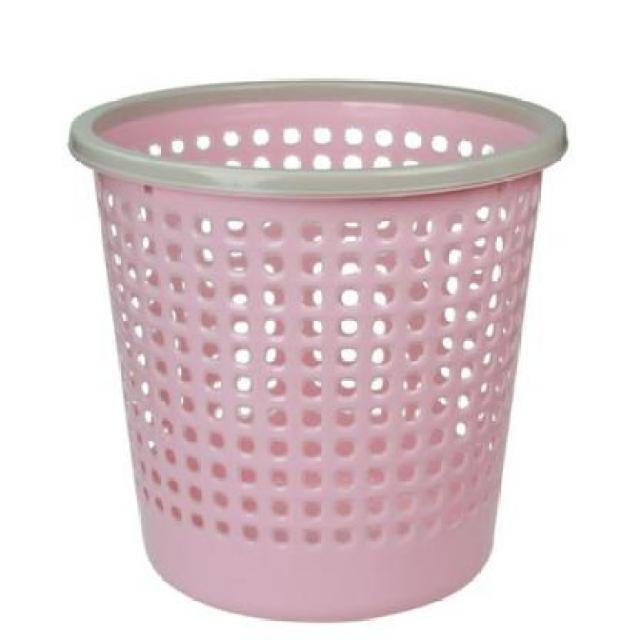dustbin: (63, 74, 573, 630)
